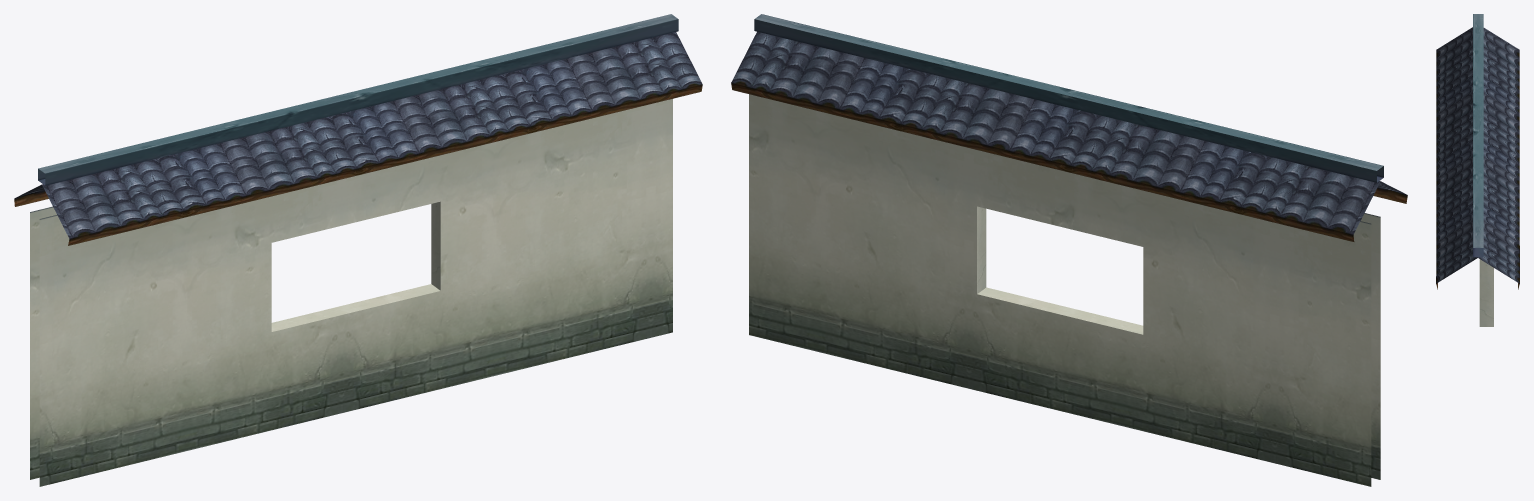
The model's file is szc_building_13a_liang.FBX.
3 views of the same model, side by side, from view 1: azimuth 30°, elevation 25°; view 2: azimuth 150°, elevation 25°; view 3: azimuth 270°, elevation 25° (orthographic). The views are drawn at different scales.
Visible parts, largest first — view 1: szc_building_13a_liang; view 2: szc_building_13a_liang; view 3: szc_building_13a_liang.
Boxes of the visible parts, box(x1,y1,x2,y2) form: szc_building_13a_liang: box(14, 14, 702, 486); szc_building_13a_liang: box(731, 14, 1407, 486); szc_building_13a_liang: box(1436, 14, 1519, 326).
Bounding box in the file's own units: 684 × 326 × 103.
